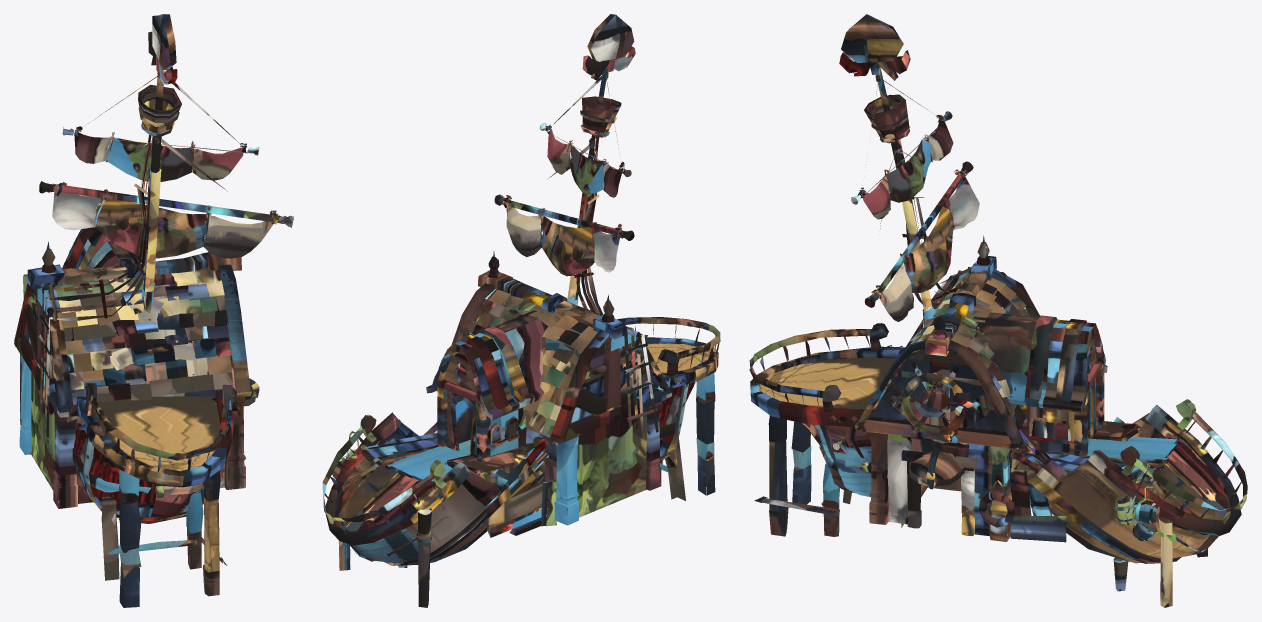
The model's file is Beach_Tavern_Building.glb.
3 renders of one model, left to right at view 1: azimuth 30°, elevation 25°; view 2: azimuth 150°, elevation 25°; view 3: azimuth 270°, elevation 25°, orthographic. The views are drawn at different scales.
Visible parts, largest first — view 1: Object_2; view 2: Object_2; view 3: Object_2.
Boxes of the visible parts, x1,y1,x2,y2 form: Object_2: [14, 14, 293, 607]; Object_2: [322, 14, 720, 607]; Object_2: [749, 14, 1247, 607].
Bounding box in the file's own units: 50.23 × 104 × 89.08.
Materials: 1 (1 with a texture image).
